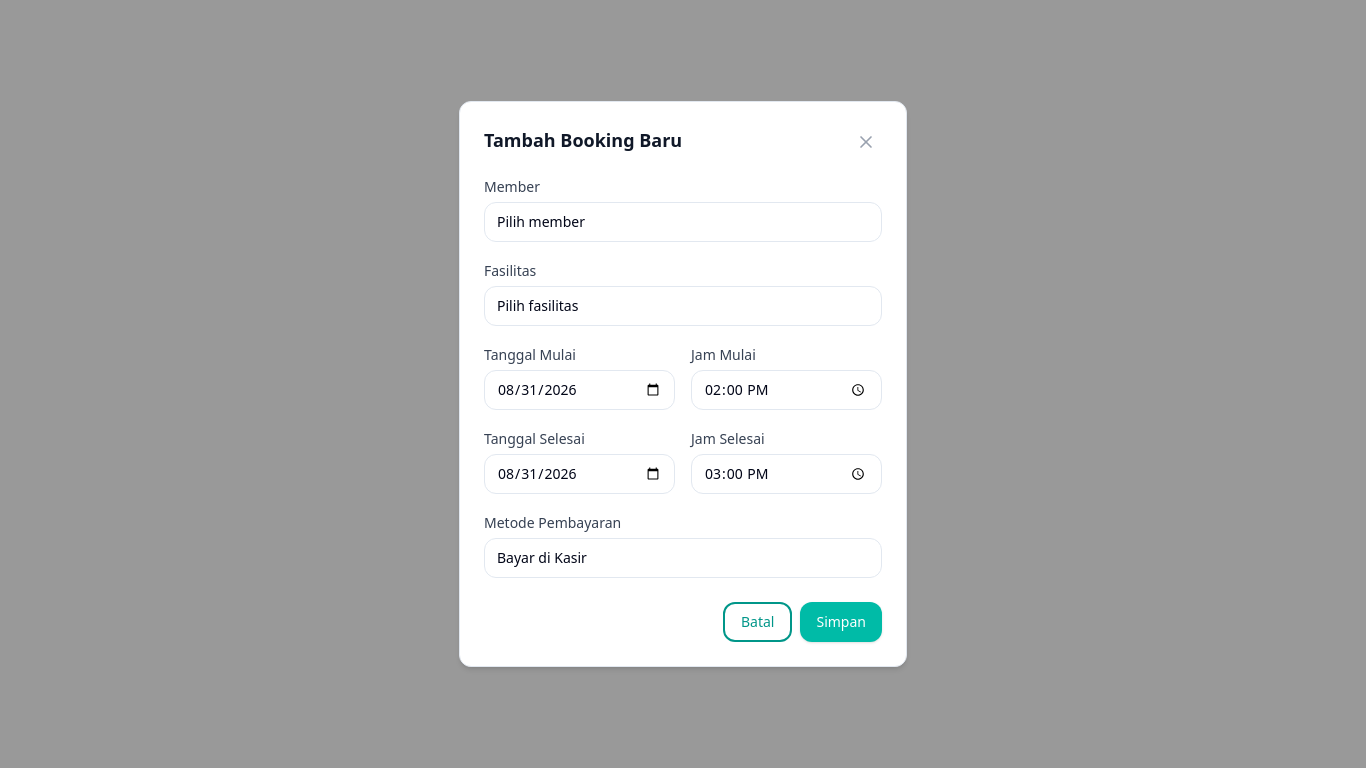
Scenario: AddBookingDialog › blocks submit with an inline error when a required field is missing
This screenshot has width=1366, height=768.
Step 1. Click the button "Simpan" → (841, 622), box [800,602,882,642]
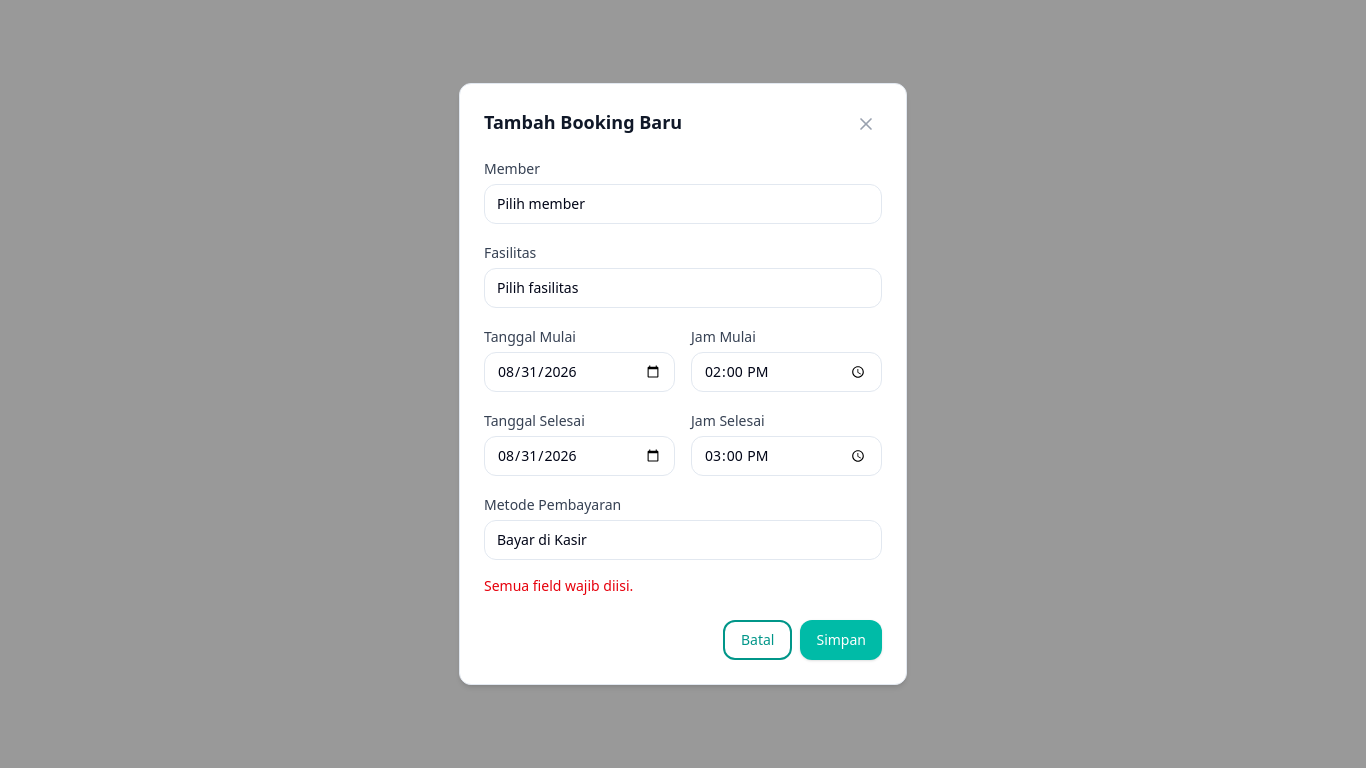
Expected: the message shows "Semua field wajib diisi", [484,576,633,595]
